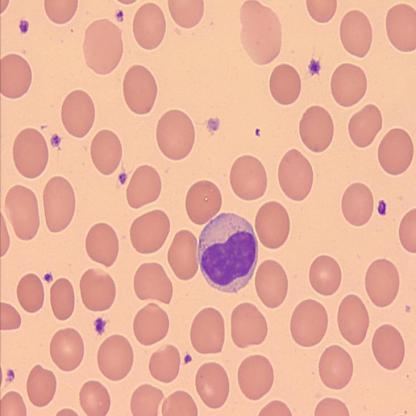Lymphocyte: (198, 211, 259, 295)
